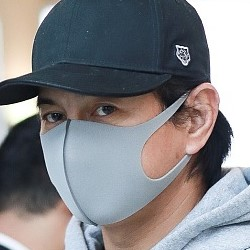mask: (39, 102, 190, 228)
